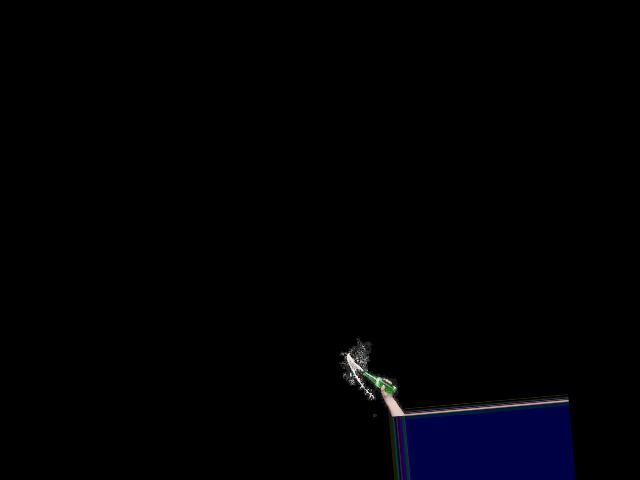beer: (364, 368, 397, 396)
